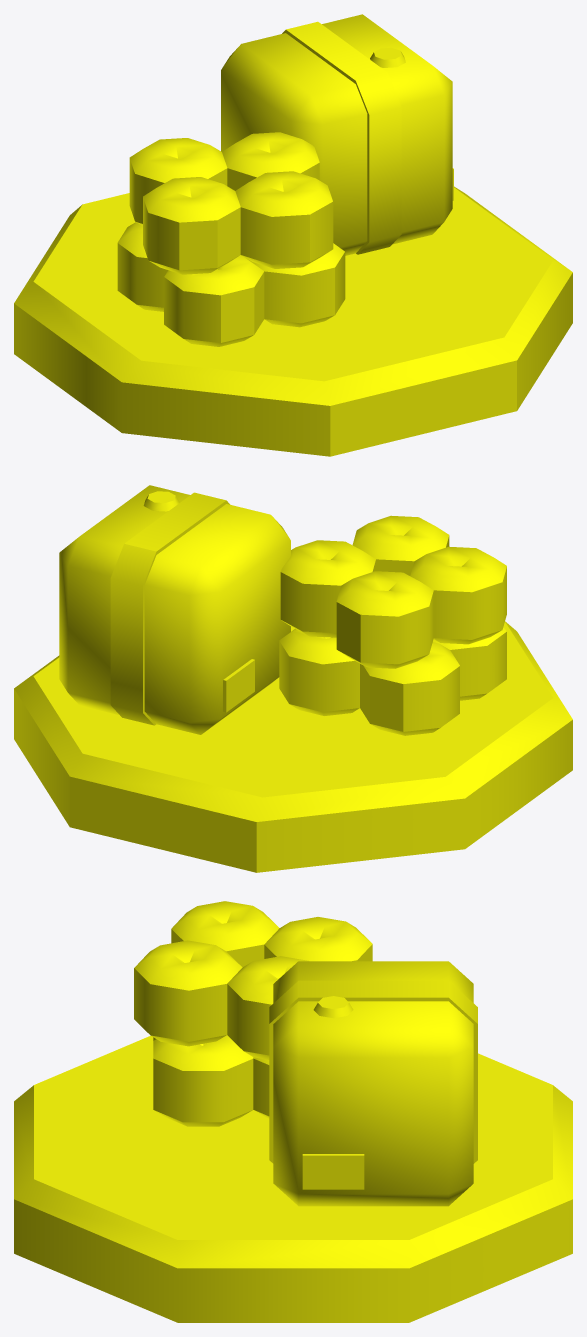
File: kaykit-roofmodule-cargo-a.glb
3 views of the same model, one above another, from view 1: azimuth 30°, elevation 25°; view 2: azimuth 150°, elevation 25°; view 3: azimuth 270°, elevation 25° (orthographic). The views are drawn at different scales.
Parts seen in each view (by area): view 1: roofmodule_cargo_A; view 2: roofmodule_cargo_A; view 3: roofmodule_cargo_A.
Part boxes in pixels (x1=…): roofmodule_cargo_A: x1=14, y1=14, x2=572, y2=456; roofmodule_cargo_A: x1=14, y1=485, x2=572, y2=872; roofmodule_cargo_A: x1=14, y1=901, x2=572, y2=1322.
Bounding box in the file's own units: 1.4 × 0.72 × 1.4.
